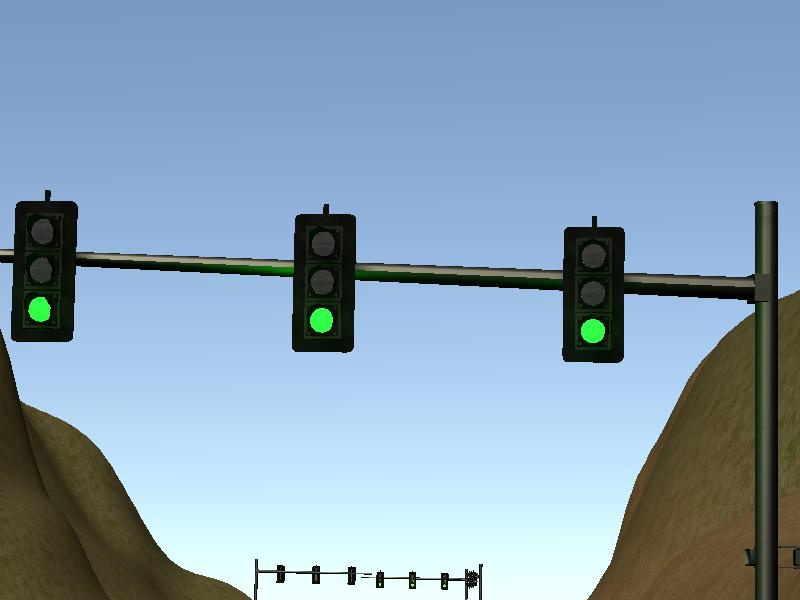Green: (9, 198, 79, 344), (558, 224, 627, 366), (288, 212, 357, 354), (405, 569, 418, 589), (439, 570, 450, 591), (375, 571, 386, 590)
